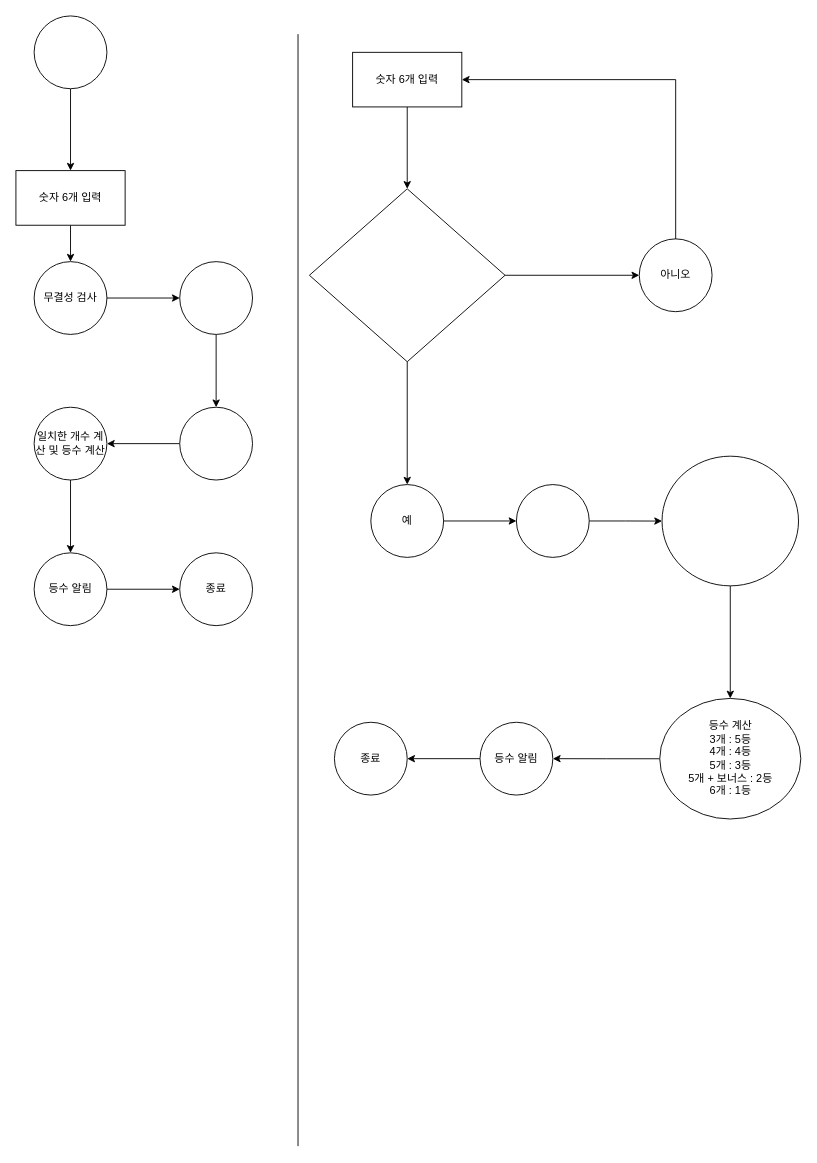
The diagram is 817 pixels wide and 1163 high, and some of its shapes have lost their labels. Here are the shapes that lost their labels. From the top down, the box of each, then its label:
(33, 15, 107, 89): 시작
(308, 188, 505, 362): 6개가 맞는지, 중복이 없는지, 1~45인 수만 있는지
(179, 261, 253, 334): 숫자 7개 생성
(179, 406, 253, 480): 마지막을 제외한 6개 정렬
(516, 484, 589, 557): 7개 생성
(661, 455, 799, 586): 1초 간격으로 하나씩 보여주고, 마지막은 보너스 번호로 보여주기
